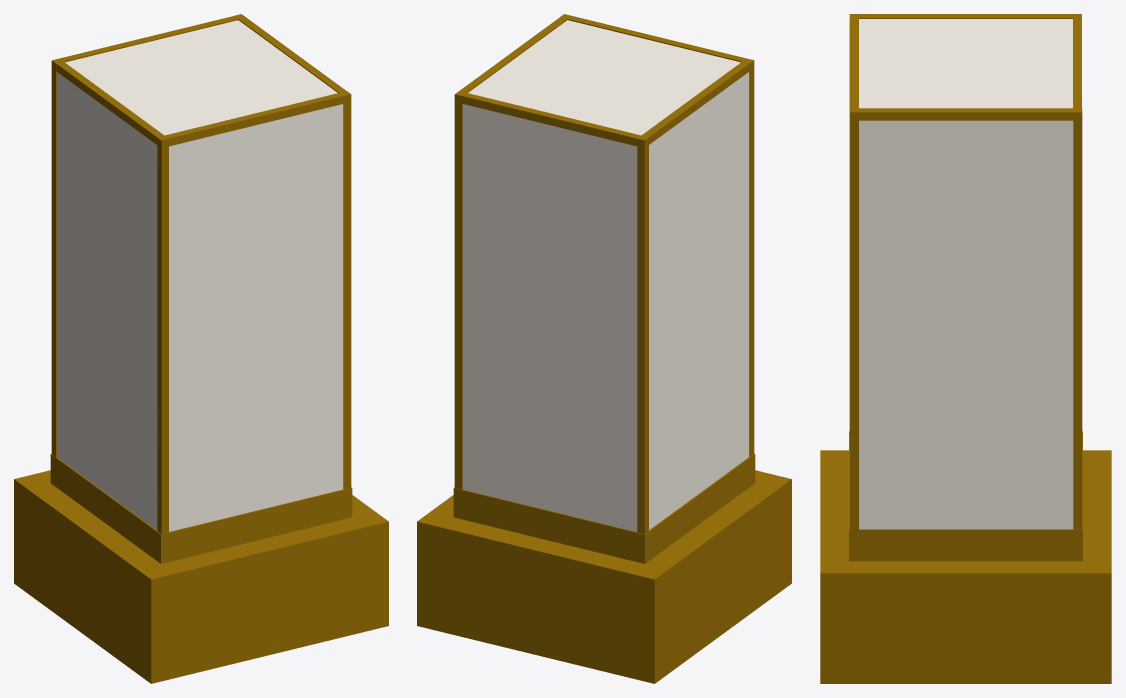
File: small_light.fbx
3 views of the same model, side by side, from view 1: azimuth 30°, elevation 25°; view 2: azimuth 150°, elevation 25°; view 3: azimuth 270°, elevation 25° (orthographic). The views are drawn at different scales.
Visible parts, largest first — view 1: small_light10, small_light1, small_light9, small_light5, small_light6, small_light3, small_light8, small_light2, small_light7; view 2: small_light10, small_light1, small_light6, small_light4, small_light9, small_light2, small_light8, small_light3, small_light7; view 3: small_light10, small_light1, small_light4, small_light5, small_light7, small_light8, small_light2, small_light3.
Boxes of the visible parts, bbox=[...] form: small_light10: bbox=[57, 20, 343, 531]; small_light1: bbox=[14, 454, 388, 683]; small_light9: bbox=[157, 138, 168, 534]; small_light5: bbox=[343, 92, 351, 489]; small_light6: bbox=[51, 59, 56, 456]; small_light3: bbox=[162, 92, 347, 146]; small_light8: bbox=[54, 61, 164, 145]; small_light2: bbox=[55, 15, 238, 62]; small_light7: bbox=[236, 15, 347, 92]; small_light10: bbox=[462, 20, 749, 531]; small_light1: bbox=[417, 453, 791, 683]; small_light6: bbox=[637, 137, 648, 534]; small_light4: bbox=[454, 93, 462, 489]; small_light9: bbox=[748, 59, 754, 456]; small_light2: bbox=[460, 92, 645, 146]; small_light8: bbox=[640, 60, 752, 144]; small_light3: bbox=[563, 15, 749, 62]; small_light7: bbox=[457, 16, 567, 94]; small_light10: bbox=[859, 19, 1073, 529]; small_light1: bbox=[820, 431, 1111, 683]; small_light4: bbox=[1073, 108, 1082, 529]; small_light5: bbox=[850, 110, 858, 529]; small_light7: bbox=[855, 108, 1078, 120]; small_light8: bbox=[853, 14, 1076, 18]; small_light2: bbox=[1073, 15, 1081, 109]; small_light3: bbox=[850, 16, 858, 110].
Bounding box in the file's own units: 16.92 × 35.89 × 16.92.
